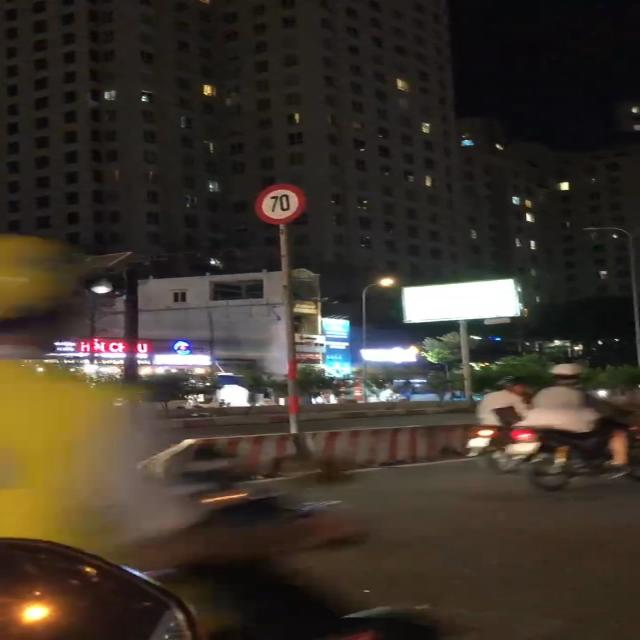Bien bao toc do toi da cho phep: (253, 178, 311, 226)
